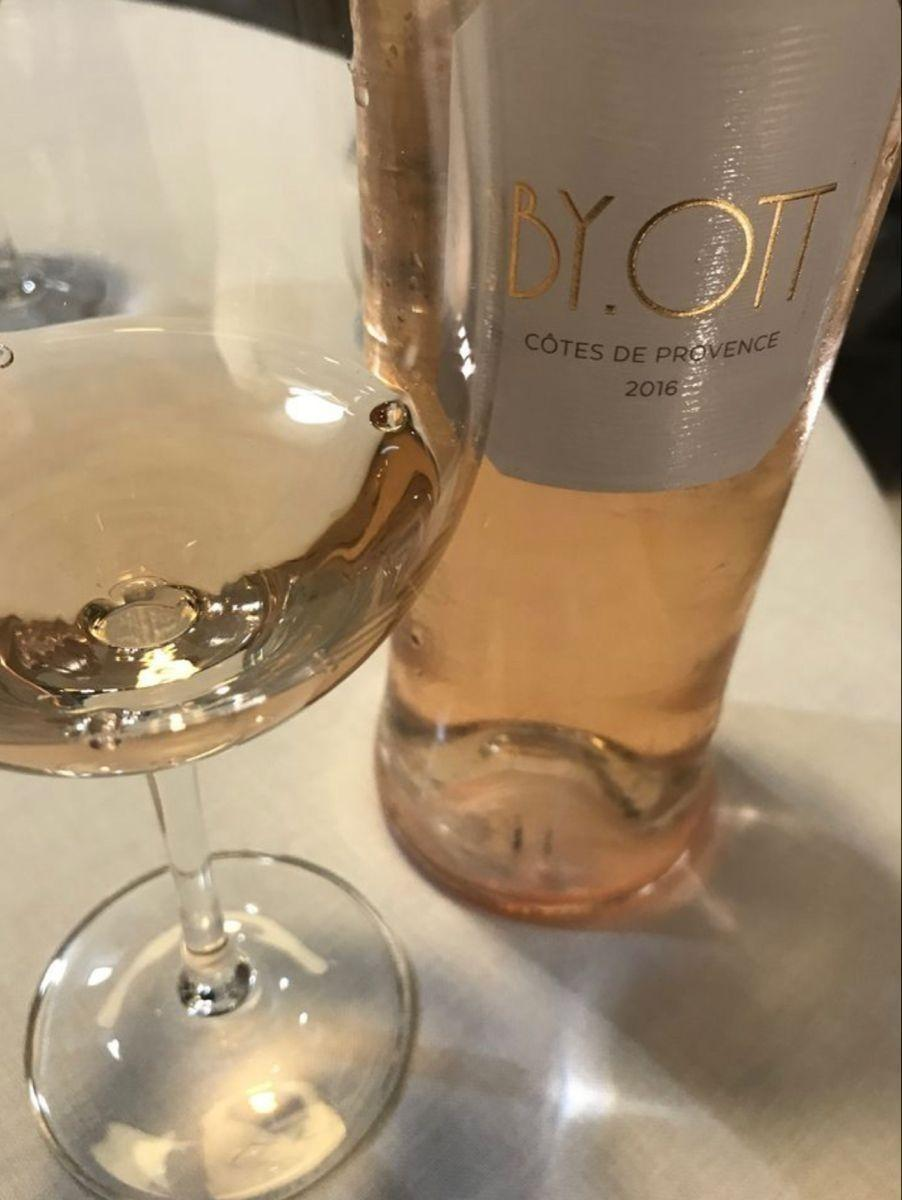bottle-glass: (342, 0, 902, 936)
glass-wine: (0, 0, 540, 1187)
